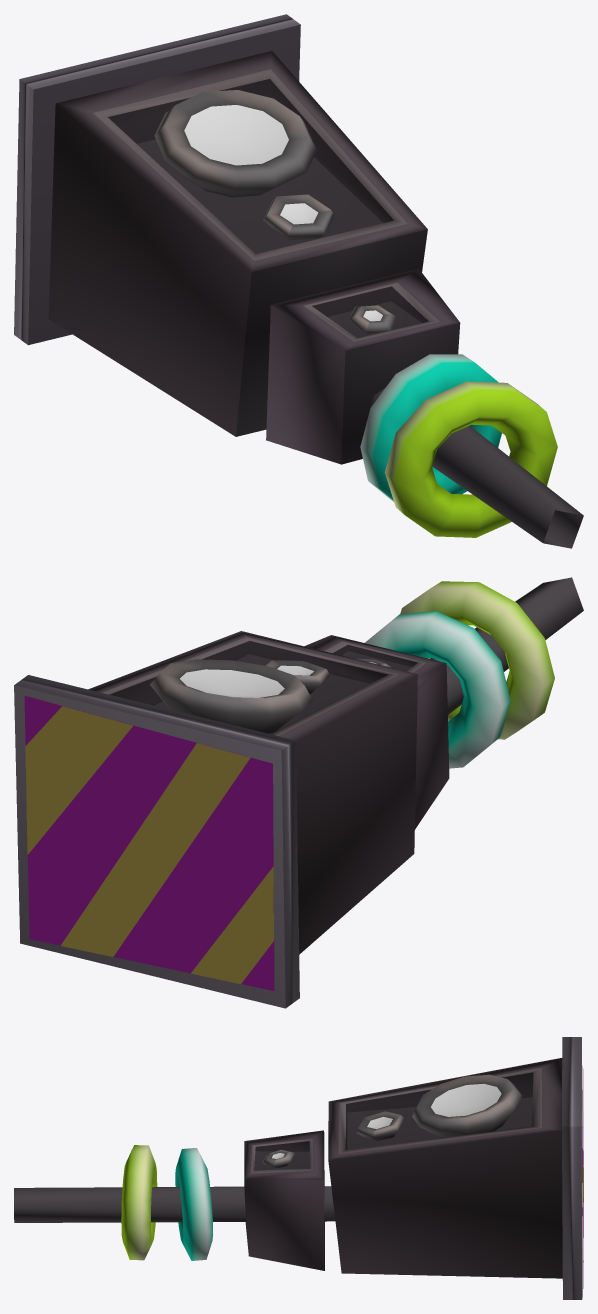
File: SpeakerTower.fbx
3 views of the same model, one above another, from view 1: azimuth 30°, elevation 25°; view 2: azimuth 150°, elevation 25°; view 3: azimuth 270°, elevation 25° (orthographic). The views are drawn at different scales.
Parts seen in each view (by area): view 1: speakerTower_tower_geo; view 2: speakerTower_tower_geo; view 3: speakerTower_tower_geo.
Boxes of the visible parts, x1,y1,x2,y2 form: speakerTower_tower_geo: [14, 14, 583, 548]; speakerTower_tower_geo: [14, 577, 583, 1008]; speakerTower_tower_geo: [14, 1037, 583, 1299].
Bounding box in the file's own units: 68.88 × 61.79 × 182.
